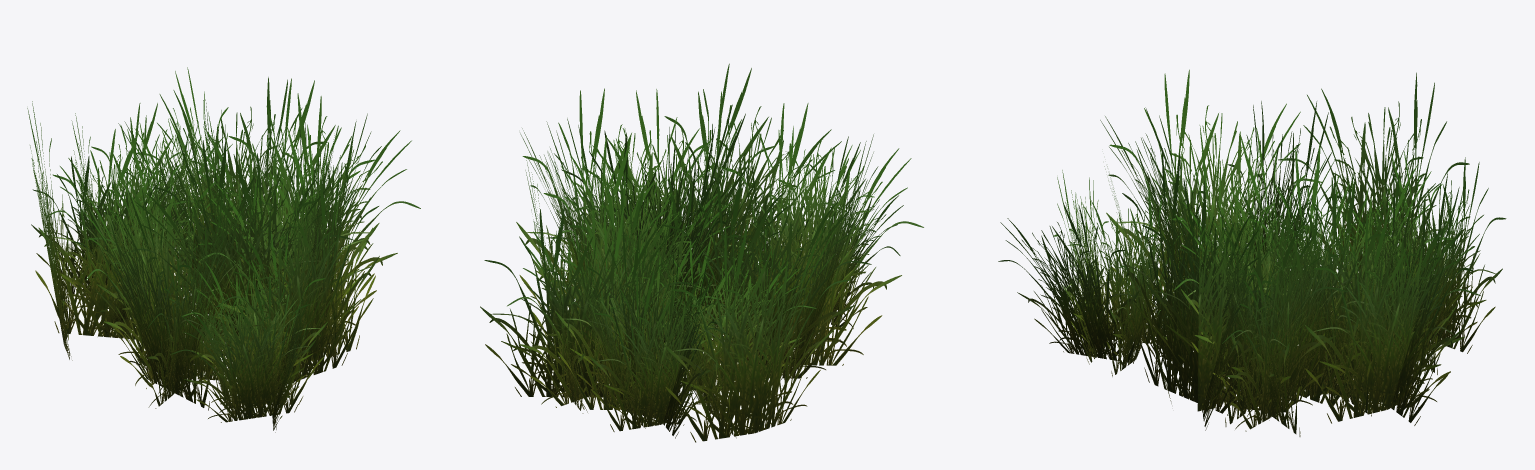
The model's file is cao.FBX.
The picture shows the model from 3 angles, left to right: view 1: azimuth 30°, elevation 25°; view 2: azimuth 150°, elevation 25°; view 3: azimuth 270°, elevation 25°; orthographic projection. The views are drawn at different scales.
Parts seen in each view (by area): view 1: Plane013; view 2: Plane013; view 3: Plane013.
Boxes of the visible parts, left/top/right/bottom form: Plane013: left=27, top=67, right=420, bottom=432; Plane013: left=480, top=63, right=923, bottom=442; Plane013: left=998, top=69, right=1506, bottom=436.
Bounding box in the file's own units: 39.37 × 26.04 × 46.03.
